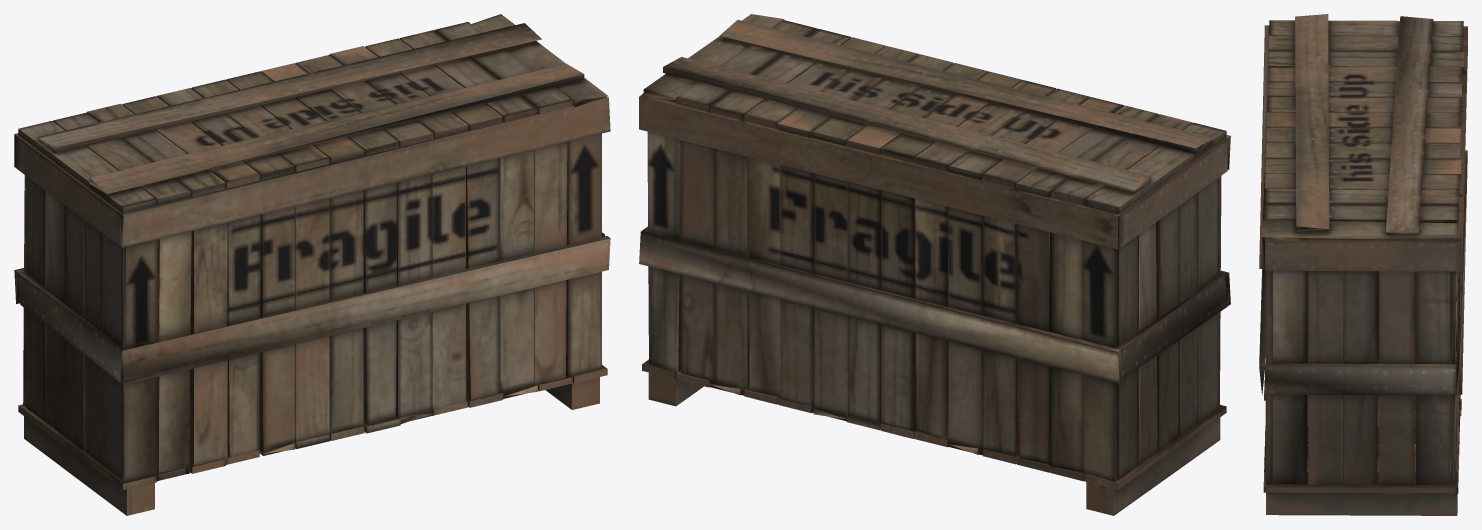
File: Wooden box 2,1.fbx
3 views of the same model, side by side, from view 1: azimuth 30°, elevation 25°; view 2: azimuth 150°, elevation 25°; view 3: azimuth 270°, elevation 25° (orthographic). The views are drawn at different scales.
Visible parts, largest first — view 1: Wooden_box001_LOD0; view 2: Wooden_box001_LOD0; view 3: Wooden_box001_LOD0.
Part boxes in pixels (bbox=[...]): Wooden_box001_LOD0: bbox=[14, 14, 610, 515]; Wooden_box001_LOD0: bbox=[639, 14, 1230, 515]; Wooden_box001_LOD0: bbox=[1259, 14, 1467, 515].
Size of what is drawn, in the model's own units: 165 by 102 by 67.04.
